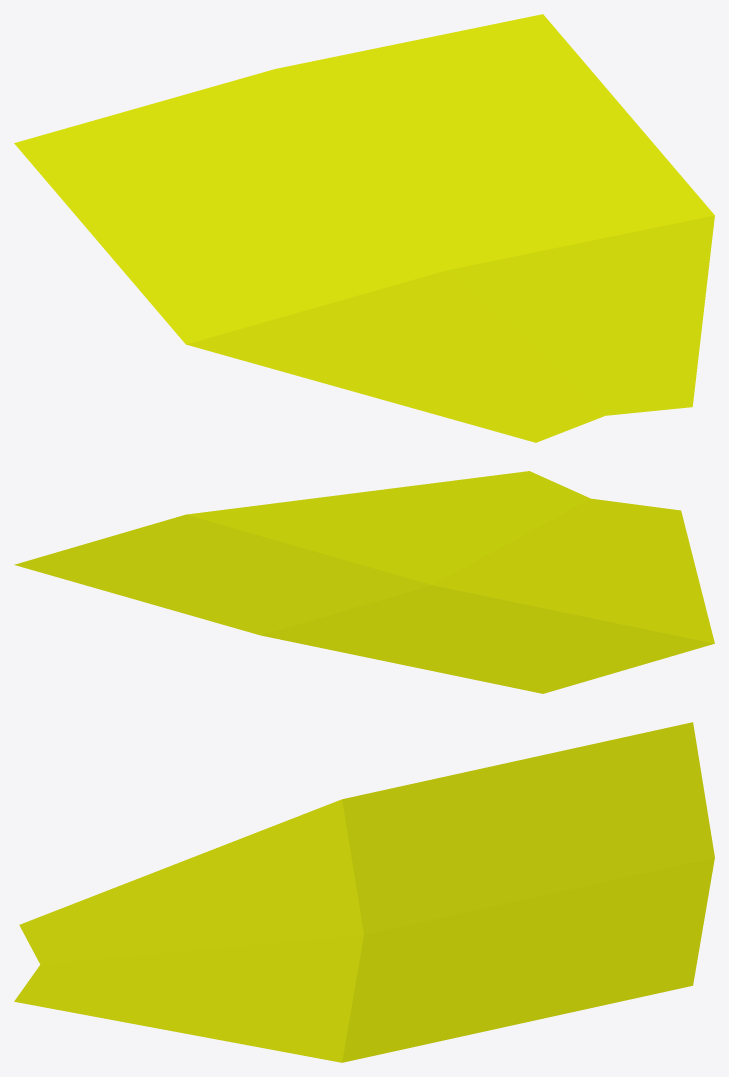
The model's file is Flower_4.fbx.
3 renders of one model, top to bottom at view 1: azimuth 30°, elevation 25°; view 2: azimuth 150°, elevation 25°; view 3: azimuth 270°, elevation 25°, orthographic. The views are drawn at different scales.
Visible parts, largest first — view 1: Flower.059; view 2: Flower.059; view 3: Flower.059.
Boxes of the visible parts, box(x1,y1,x2,y2) form: Flower.059: box(14, 14, 714, 442); Flower.059: box(14, 471, 714, 693); Flower.059: box(14, 722, 714, 1062).
Size of the model in its own units: 0.0217 by 0.00412 by 0.0244.
